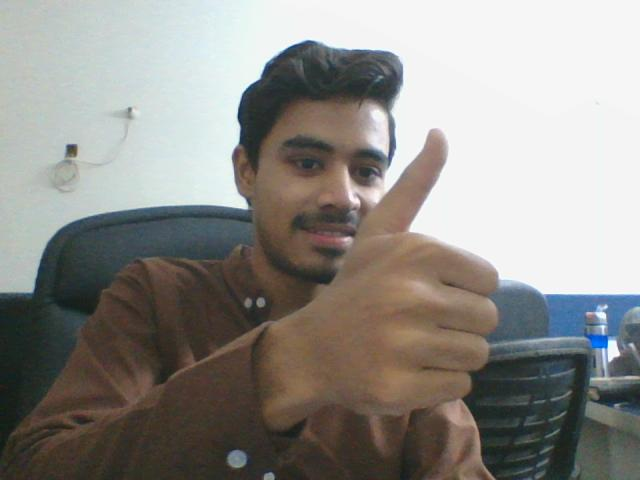thumbs-up: (351, 127, 500, 417)
